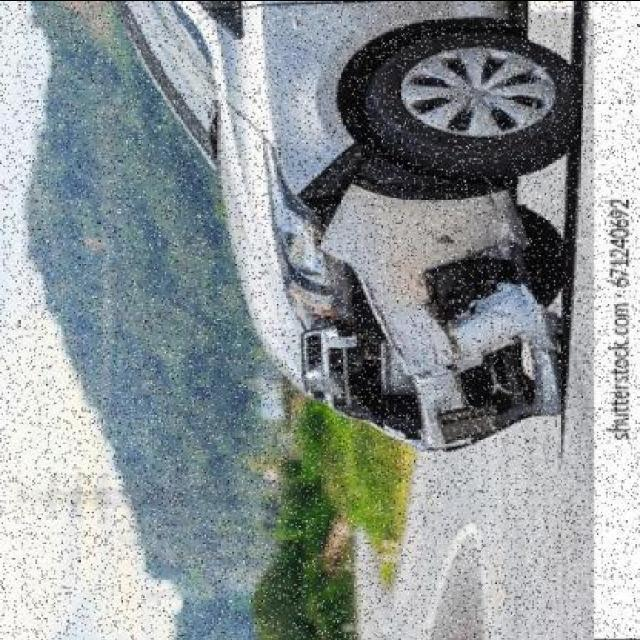front-bumper-dent: (331, 140, 548, 468)
